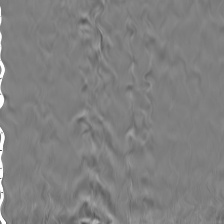cavities: (98, 53, 206, 171)
